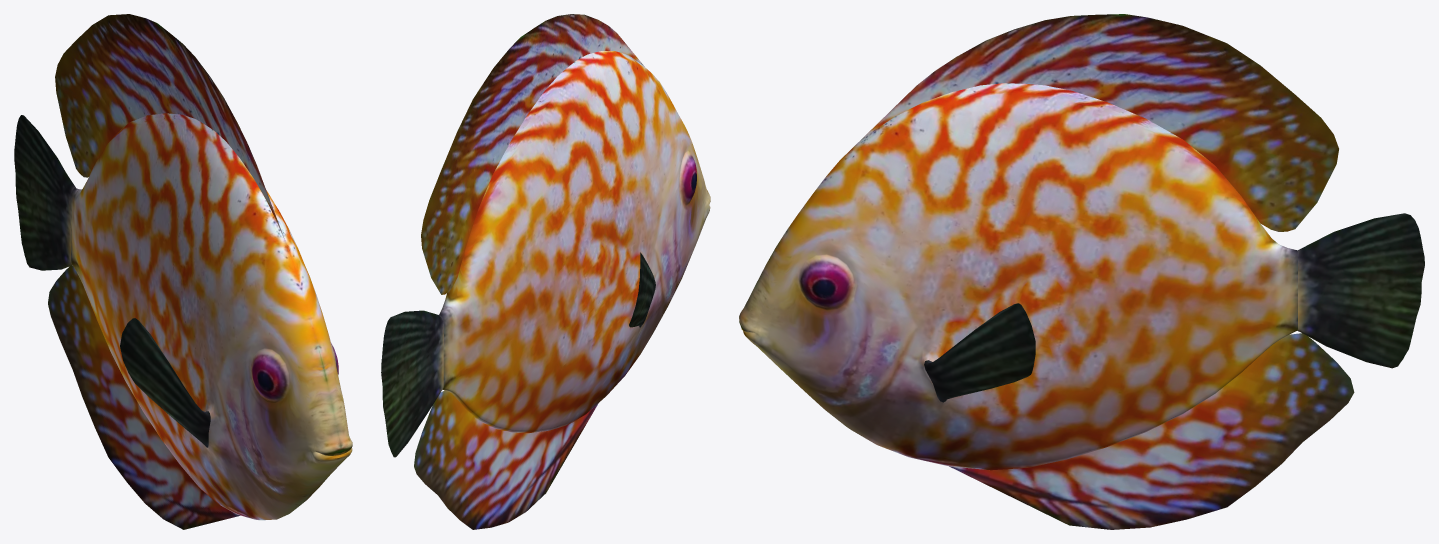
File: fish.glb
3 renders of one model, left to right at view 1: azimuth 30°, elevation 25°; view 2: azimuth 150°, elevation 25°; view 3: azimuth 270°, elevation 25°, orthographic. The views are drawn at different scales.
Parts seen in each view (by area): view 1: fish_1; view 2: fish_1; view 3: fish_1.
Boxes of the visible parts, bbox=[...] form: fish_1: bbox=[14, 14, 352, 529]; fish_1: bbox=[381, 14, 710, 529]; fish_1: bbox=[739, 14, 1424, 529].
Size of the model in its own units: 1.17 by 3.44 by 4.14.
1 material, 1 textured.
